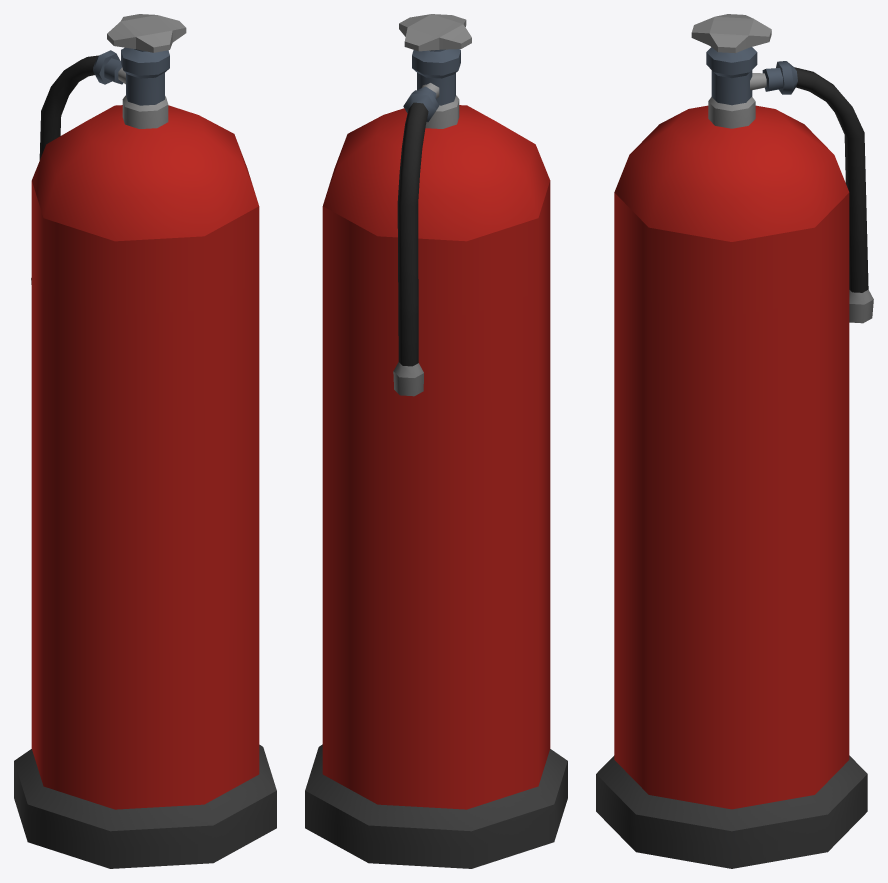
Rendered from GasCylinder_1_2.fbx.
3 renders of one model, left to right at view 1: azimuth 30°, elevation 25°; view 2: azimuth 150°, elevation 25°; view 3: azimuth 270°, elevation 25°, orthographic.
Parts seen in each view (by area): view 1: GasCylinder_1_2; view 2: GasCylinder_1_2; view 3: GasCylinder_1_2.
Part boxes in pixels (x1,y1,x2,y2): GasCylinder_1_2: (14,14,276,868); GasCylinder_1_2: (305,14,567,868); GasCylinder_1_2: (596,14,873,868).
Size of the model in its own units: 27.47 by 87.73 by 28.1.
